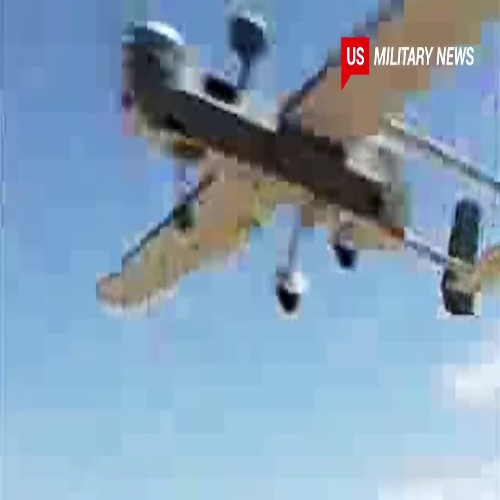uav: (95, 4, 498, 322)
